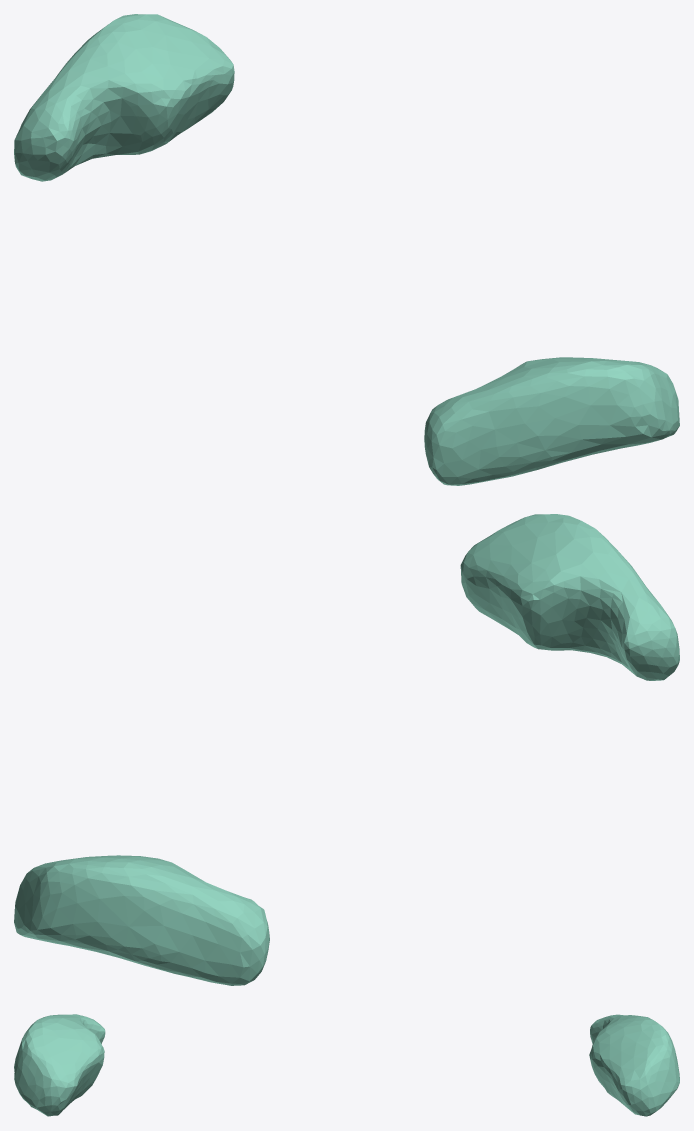
3 renders of one model, top to bottom at view 1: azimuth 30°, elevation 25°; view 2: azimuth 150°, elevation 25°; view 3: azimuth 270°, elevation 25°, orthographic. The views are drawn at different scales.
Parts seen in each view (by area): view 1: 639.obj; view 2: 639.obj; view 3: 639.obj.
Boxes of the visible parts, bbox=[...] form: 639.obj: bbox=[14, 14, 679, 485]; 639.obj: bbox=[14, 514, 679, 985]; 639.obj: bbox=[14, 1014, 679, 1116].
Bounding box in the file's own units: 1516 × 719 × 5796.
